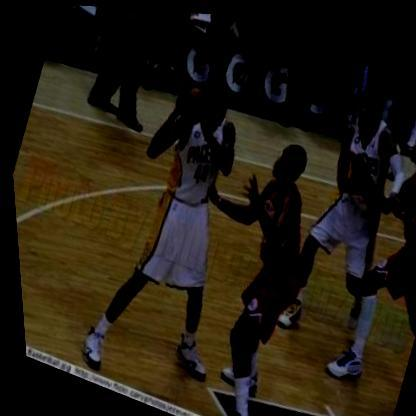basketball: (167, 75, 213, 121)
